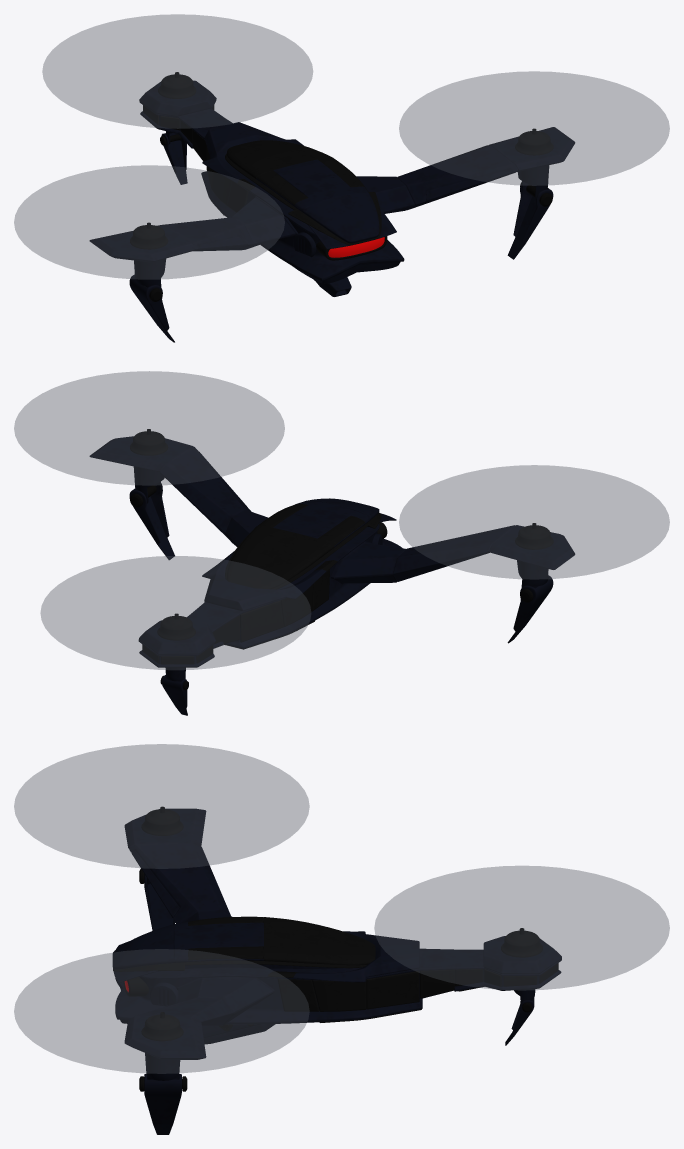
The model's file is drone.glb.
3 renders of one model, top to bottom at view 1: azimuth 30°, elevation 25°; view 2: azimuth 150°, elevation 25°; view 3: azimuth 270°, elevation 25°, orthographic. The views are drawn at different scales.
Visible parts, largest first — view 1: drone.44; view 2: drone.44; view 3: drone.44.
Part boxes in pixels (left/top/right/bottom): drone.44: left=14, top=14, right=669, bottom=342; drone.44: left=14, top=371, right=669, bottom=715; drone.44: left=14, top=744, right=669, bottom=1134.
Size of the model in its own units: 6.81 by 1.3 by 5.72.
Materials: 2 (1 with a texture image).
